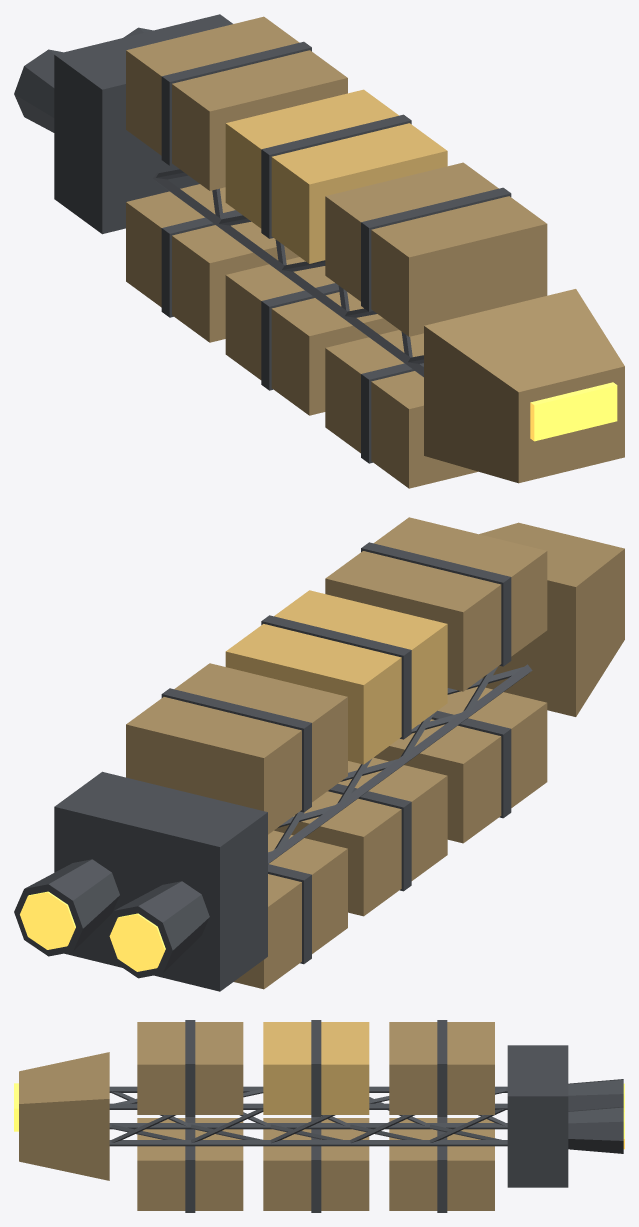
File: foundry_hauler.glb
The picture shows the model from 3 angles, top to bottom: view 1: azimuth 30°, elevation 25°; view 2: azimuth 150°, elevation 25°; view 3: azimuth 270°, elevation 25°; orthographic projection. The views are drawn at different scales.
Visible parts, largest first — view 1: hauler; view 2: hauler; view 3: hauler.
Boxes of the visible parts, x1,y1,x2,y2 form: hauler: (14,14,624,488); hauler: (14,517,624,991); hauler: (14,1020,624,1212).
Bounding box in the file's own units: 2.4 × 3.26 × 12.13.
